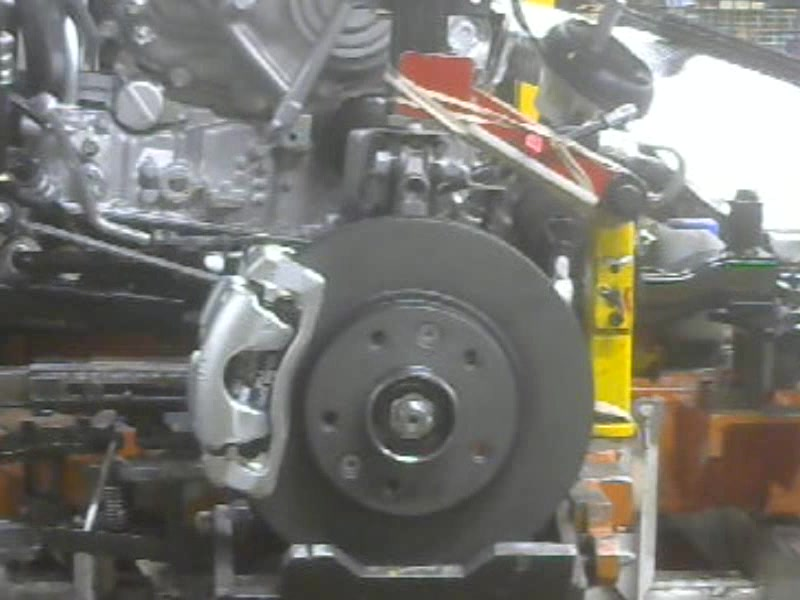DD3: (315, 214, 599, 544)
P3: (185, 241, 327, 499)
